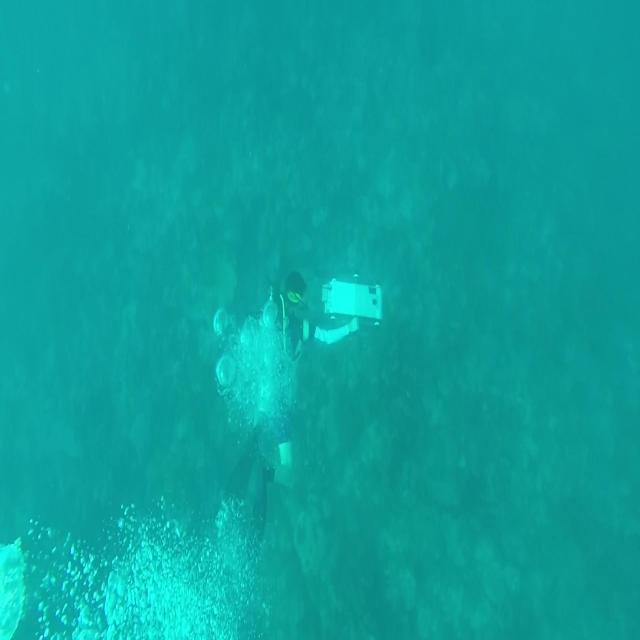human: (212, 268, 383, 545)
